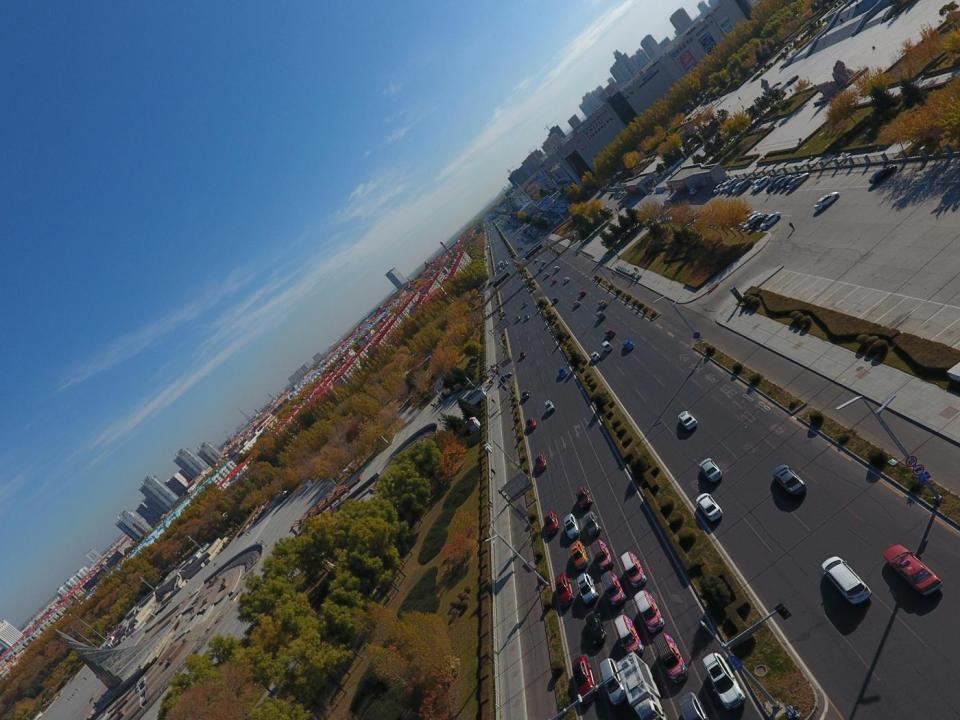car: (882, 544, 943, 596), (820, 556, 872, 604), (702, 653, 745, 711), (771, 464, 807, 497), (572, 656, 596, 704), (678, 692, 713, 720), (583, 610, 607, 647), (696, 493, 723, 523), (554, 574, 575, 609), (577, 574, 598, 606), (698, 458, 722, 484), (570, 540, 590, 570), (868, 164, 897, 184), (813, 190, 840, 210), (563, 513, 580, 540), (584, 511, 602, 536), (760, 211, 782, 230), (786, 172, 810, 189), (678, 410, 698, 429), (738, 210, 759, 228), (750, 214, 770, 231), (742, 214, 762, 231), (773, 174, 795, 189), (780, 174, 801, 188), (767, 174, 785, 190), (753, 176, 771, 192), (534, 454, 547, 472), (732, 180, 746, 194), (727, 180, 742, 193), (499, 372, 512, 384), (544, 400, 556, 413), (724, 178, 737, 190), (714, 181, 727, 193), (710, 181, 723, 193), (751, 178, 765, 188), (721, 180, 733, 191), (527, 417, 536, 431), (557, 366, 568, 377), (623, 340, 634, 350), (590, 351, 600, 361), (605, 328, 616, 337), (521, 389, 530, 399), (598, 300, 607, 307), (600, 208, 609, 215), (598, 206, 607, 213), (573, 300, 580, 308), (602, 209, 610, 216), (689, 188, 698, 194), (552, 297, 559, 304), (519, 351, 526, 358), (618, 191, 625, 198), (616, 191, 623, 198), (614, 191, 621, 198), (609, 192, 616, 199), (579, 290, 586, 296), (554, 266, 560, 272), (551, 278, 557, 284), (620, 192, 626, 198), (606, 208, 612, 214), (564, 276, 569, 282), (522, 302, 528, 307), (515, 316, 520, 322), (524, 314, 529, 320), (540, 260, 545, 265), (544, 272, 548, 278), (502, 311, 506, 316), (521, 258, 525, 262), (534, 258, 538, 262), (538, 269, 542, 273)
truck: (615, 652, 669, 720)
van: (654, 632, 688, 682), (600, 658, 627, 707), (614, 614, 644, 657), (634, 590, 664, 632), (601, 570, 627, 607), (621, 551, 647, 587), (591, 540, 614, 570), (736, 178, 752, 194), (602, 340, 612, 353), (596, 310, 605, 320)
